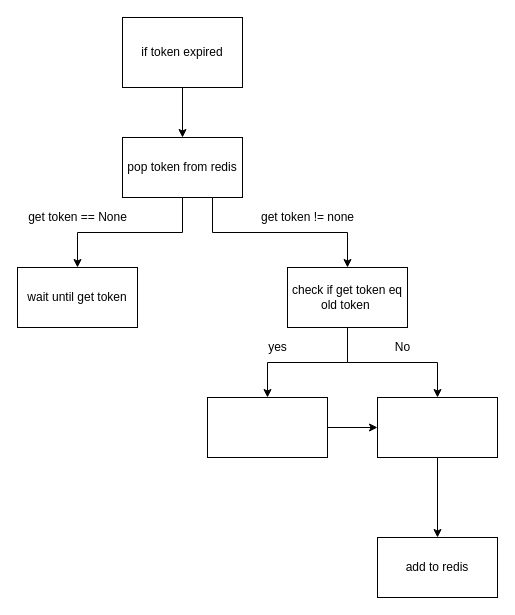
Image size: 515x615. Some labels were removed from this diagram. The shapes that lost their labels are listed below. From the top down, each one's centre as x and y in pixels, then its label:
the point at 267,427: refresh(get new token from identity)
the point at 437,427: update token
